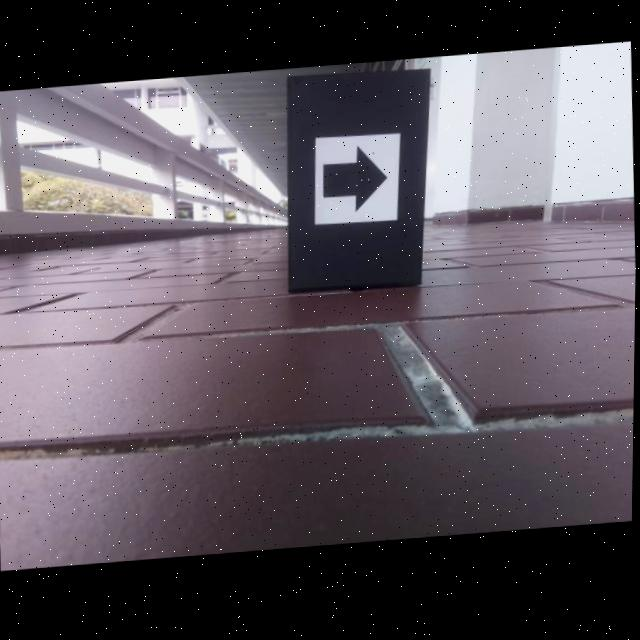RIGHT: (322, 149, 388, 216)
